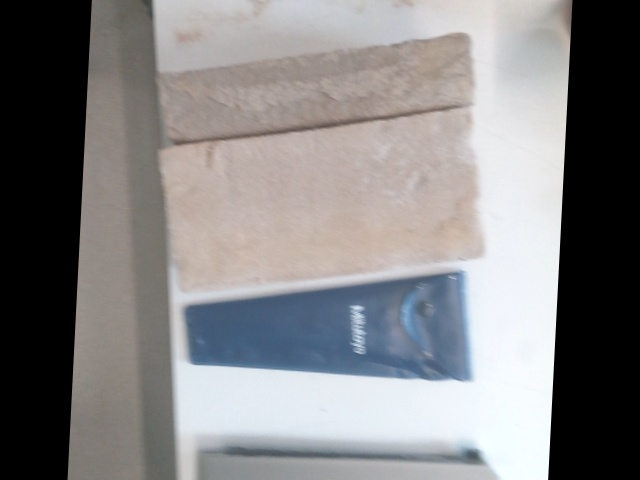brick: (164, 115, 479, 291)
